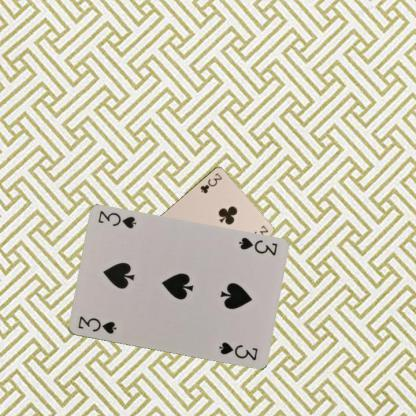3c: (198, 170, 223, 195)
3s: (75, 313, 118, 336), (236, 235, 278, 258)
